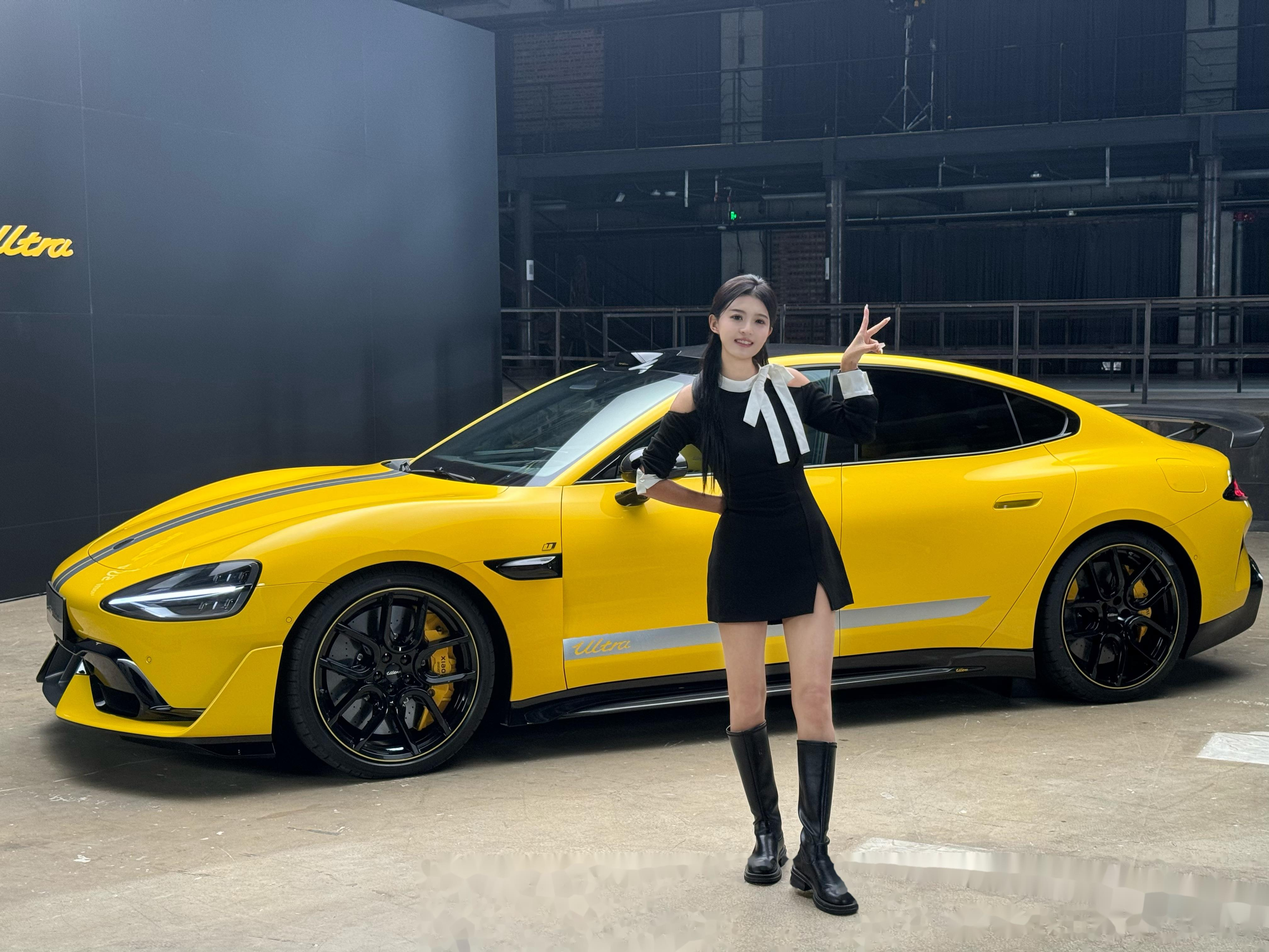su7: (35, 330, 1269, 763)
